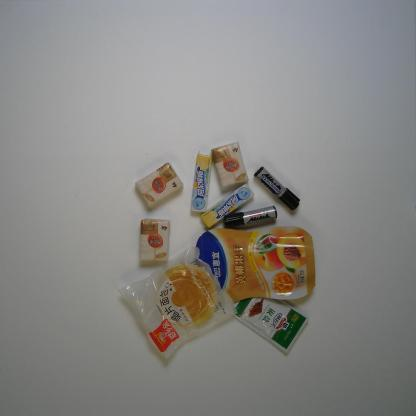Candy: (200, 184, 255, 228), (190, 150, 212, 213)
Dessert: (118, 246, 238, 361)
Dried Fruit: (193, 225, 316, 305)
Seasoner: (228, 291, 310, 355)
Stationery: (253, 164, 301, 212), (223, 206, 277, 230)
Tissue: (135, 162, 185, 207), (211, 142, 249, 188), (140, 218, 170, 263)
